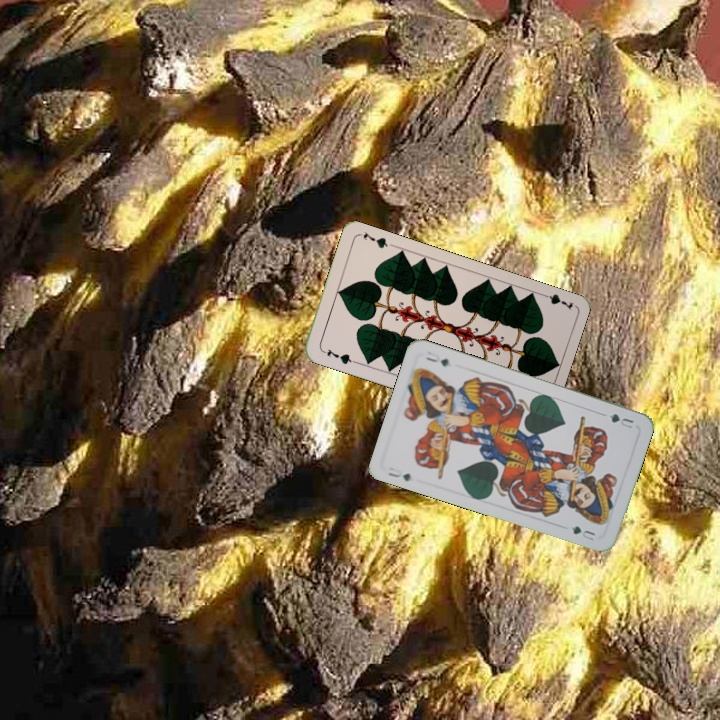G7: (535, 289, 575, 312), (318, 345, 357, 367)
GU: (604, 409, 636, 431), (384, 463, 414, 484)
